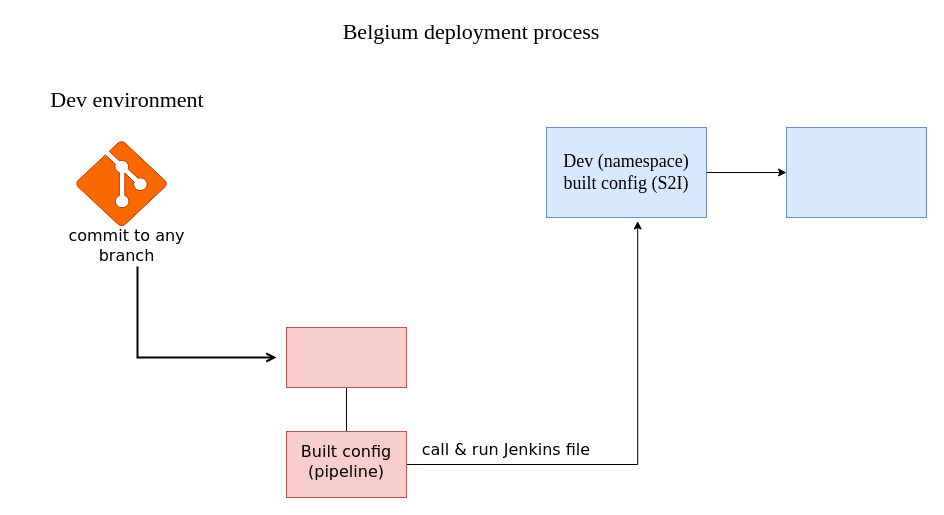
This 944x515 diagram has some shape labels left out. The centre of each missing label's shape, as x and y in pixels:
CI/CD (namespace): (346,357)
Deployed: (856,172)
